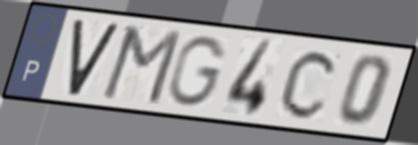0: (335, 52, 394, 130)
4: (222, 37, 276, 121)
C: (277, 47, 342, 122)
G: (165, 34, 230, 110)
M: (97, 23, 186, 108)
V: (66, 19, 123, 99)
